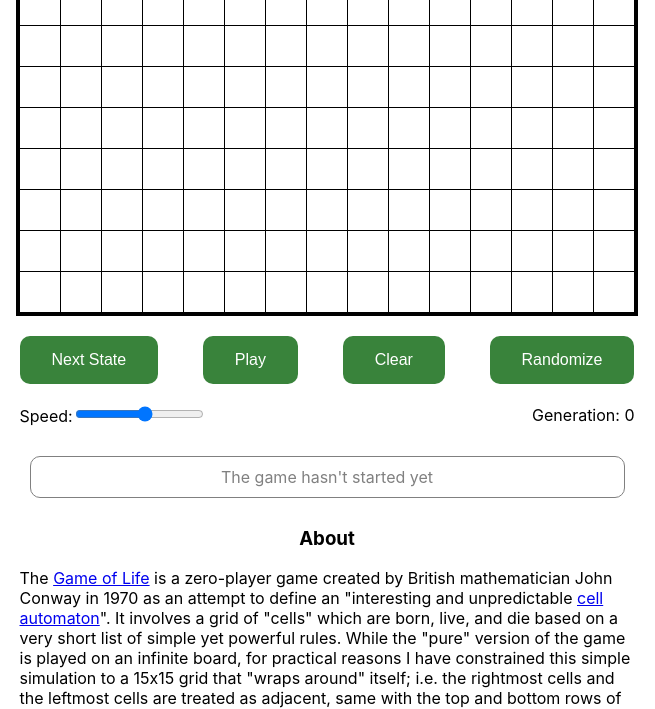
Test: clicking 'Next State' button increments the tick count
This screenshot has width=655, height=709.
(page scrolled)
Step 1. Click the button "Next State" → (89, 360), box 20,336 -> 158,384
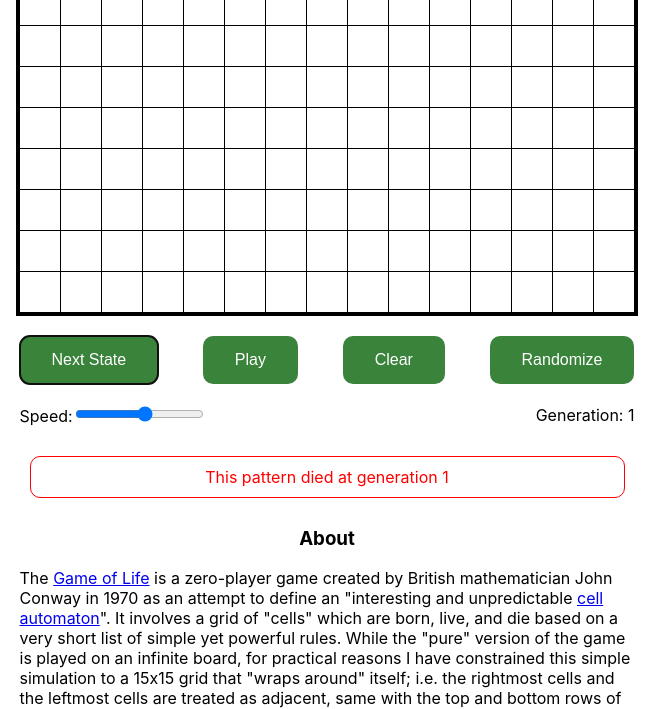
Step 2. Click the button "Next State" → (89, 360), box 20,336 -> 158,384
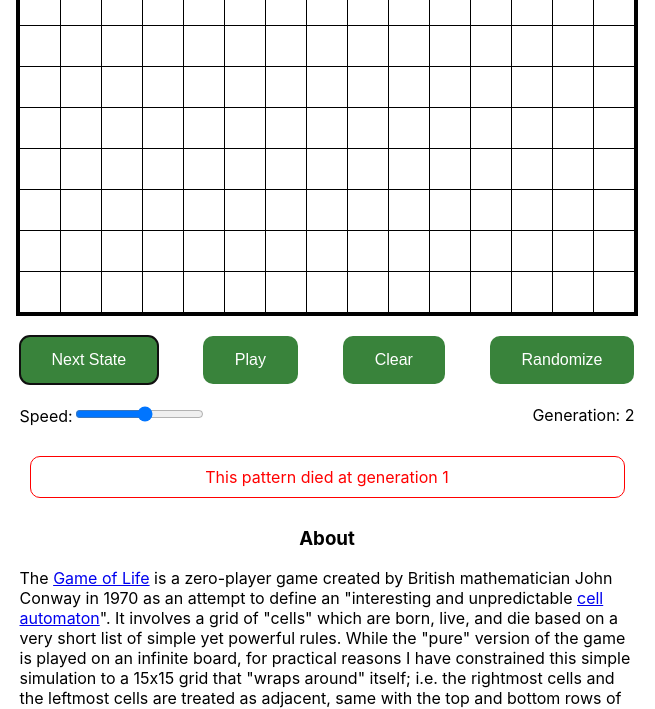
Check: the text with test id "tickCount" shows "2", box 625,405 -> 634,425
